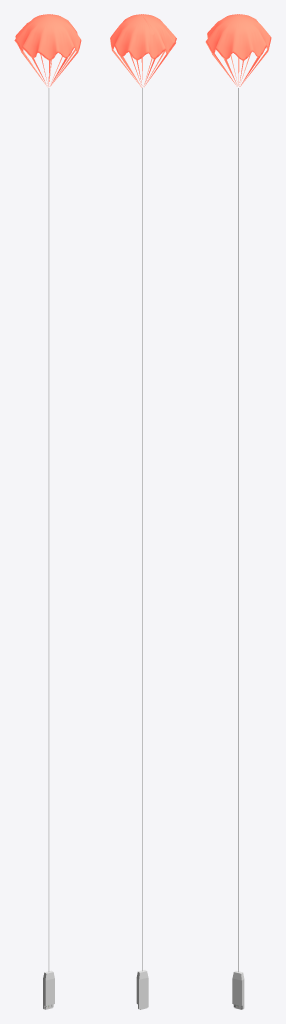
File: radiosondeparachute.glb
3 renders of one model, left to right at view 1: azimuth 30°, elevation 25°; view 2: azimuth 210°, elevation 25°; view 3: azimuth 330°, elevation 25°, orthographic.
Parts seen in each view (by area): view 1: Parachute, Rope Lower, Radiosonde; view 2: Parachute, Rope Lower, Radiosonde; view 3: Parachute, Rope Lower, Radiosonde.
Part boxes in pixels (x1,y1,x2,y2): Parachute: (14,14,81,86); Rope Lower: (48,88,49,971); Radiosonde: (43,970,54,1009); Parachute: (110,14,176,87); Rope Lower: (142,87,142,971); Radiosonde: (136,970,148,1009); Parachute: (205,14,271,86); Rope Lower: (238,87,238,972); Radiosonde: (232,970,244,1009).
Size of the model in its own units: 0.3712 by 6.1 by 0.3639.
4 materials, 1 textured.
